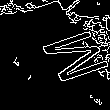M_SW: (13, 24, 97, 86)
